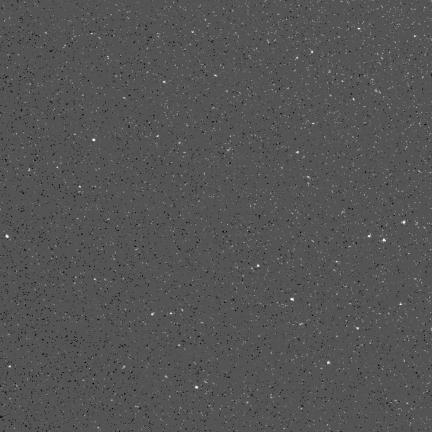blob: (6, 235, 10, 239), (92, 138, 96, 142), (383, 238, 386, 242), (291, 298, 294, 301), (327, 361, 330, 364), (195, 386, 198, 388)
